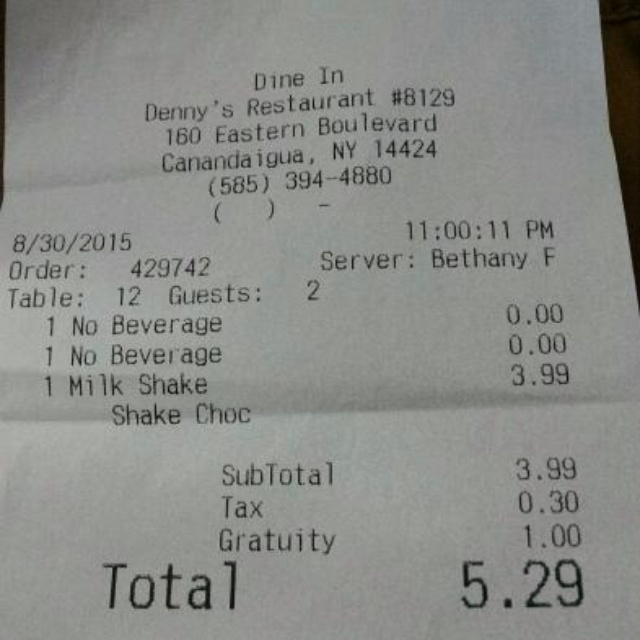invoice_table: (45, 304, 570, 400)
invoice_title: (142, 62, 454, 195)
invoice_total: (99, 554, 593, 611)
